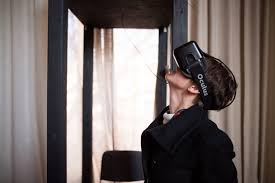oculus: (171, 41, 206, 78)
